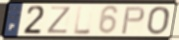2: (22, 5, 46, 36)
6: (96, 4, 121, 37)
L: (73, 5, 92, 36)
O: (146, 6, 171, 36)
P: (120, 5, 146, 35)
Z: (45, 5, 73, 35)
